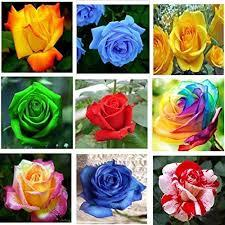Rose: (4, 3, 68, 71), (158, 83, 222, 149), (81, 160, 146, 222), (7, 83, 68, 149), (4, 158, 69, 219), (158, 163, 222, 221), (87, 93, 137, 146), (91, 20, 146, 67), (167, 11, 209, 72)
